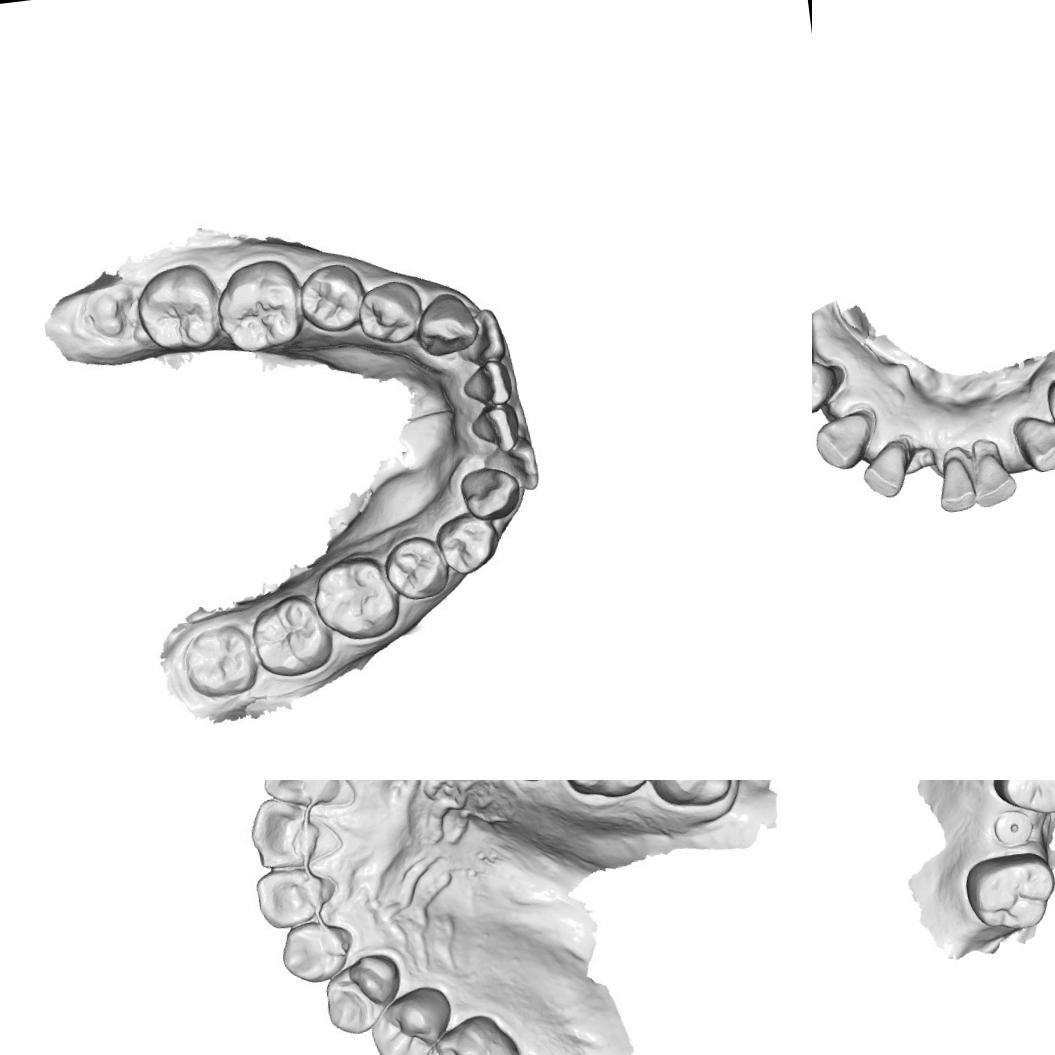canine: (276, 912, 356, 988), (412, 288, 482, 360), (460, 464, 526, 528), (812, 409, 876, 474), (1009, 409, 1055, 476)
implant: (982, 807, 1048, 854)
incisor: (241, 793, 336, 871), (250, 860, 336, 934), (459, 358, 520, 412), (858, 442, 913, 501), (968, 449, 1020, 510), (258, 780, 352, 812), (474, 400, 528, 454), (932, 453, 978, 516), (490, 441, 544, 494), (462, 308, 508, 362)
molar: (212, 253, 303, 352), (959, 847, 1055, 938), (136, 260, 224, 356), (249, 592, 335, 682), (312, 553, 399, 639), (318, 951, 404, 1038), (179, 618, 261, 706), (365, 980, 461, 1055), (640, 780, 740, 813)
premolar: (407, 1008, 527, 1055), (298, 262, 370, 340), (385, 533, 449, 609), (434, 510, 500, 578), (362, 276, 424, 346), (982, 780, 1055, 819), (812, 356, 839, 418), (1042, 373, 1055, 433)
